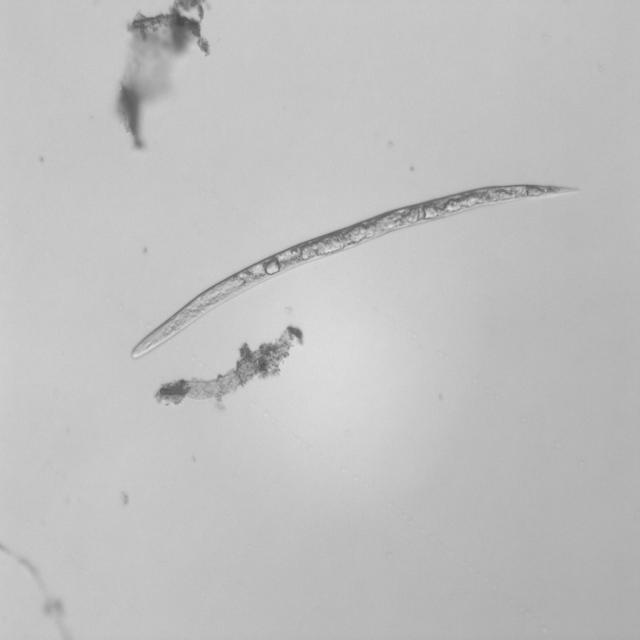Meloidogyne: (121, 176, 591, 362)
